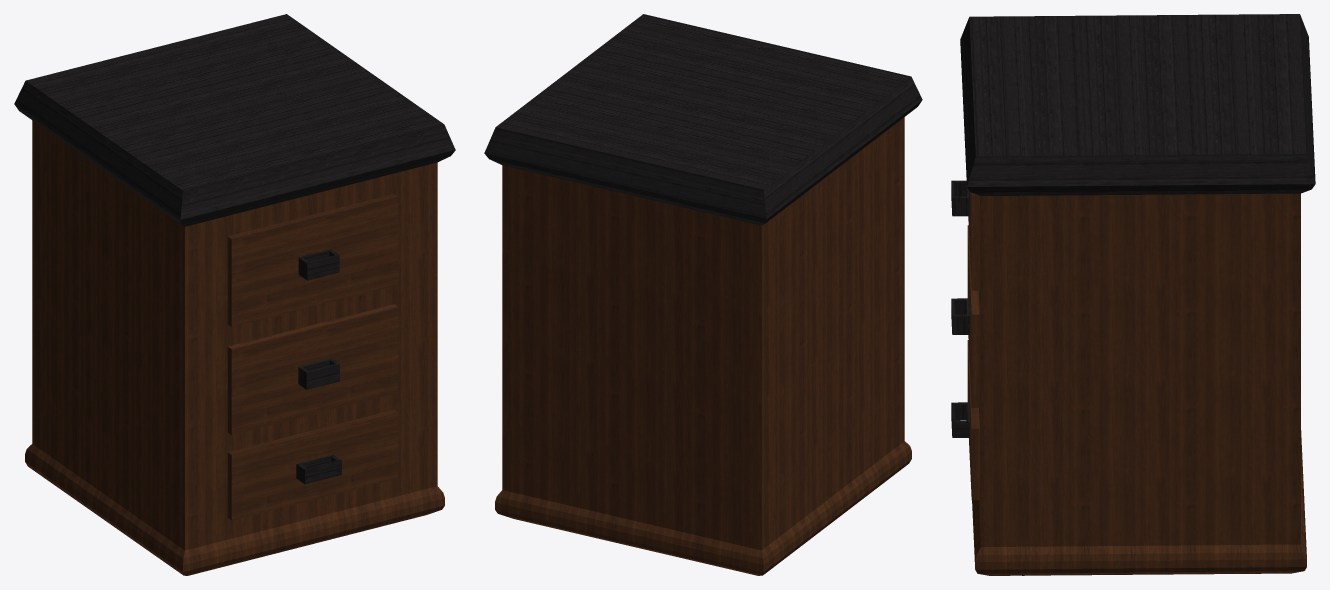
File: mesita_noche2.fbx
3 views of the same model, side by side, from view 1: azimuth 30°, elevation 25°; view 2: azimuth 150°, elevation 25°; view 3: azimuth 270°, elevation 25° (orthographic). The views are drawn at different scales.
Visible parts, largest first — view 1: nightstand1:Mesh; view 2: nightstand1:Mesh; view 3: nightstand1:Mesh.
Boxes of the visible parts, box(x1,y1,x2,y2) form: nightstand1:Mesh: box(14, 14, 455, 575); nightstand1:Mesh: box(484, 14, 922, 575); nightstand1:Mesh: box(951, 14, 1315, 575).
Size of the model in its own units: 4.01 by 5.46 by 4.1.
Materials: 2 (2 with a texture image).
